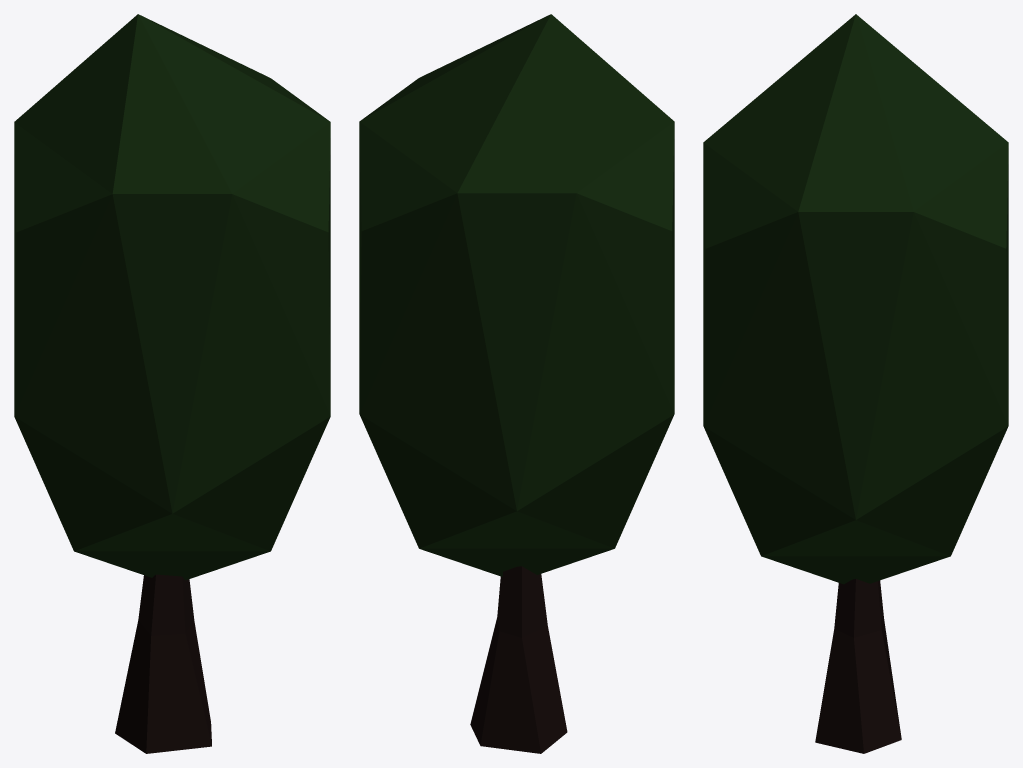
Rendered from Arbre.FBX.
3 renders of one model, left to right at view 1: azimuth 30°, elevation 25°; view 2: azimuth 150°, elevation 25°; view 3: azimuth 270°, elevation 25°, orthographic. The views are drawn at different scales.
Parts seen in each view (by area): view 1: Petit arbre; view 2: Petit arbre; view 3: Petit arbre.
Boxes of the visible parts, x1=… form: Petit arbre: x1=14, y1=14, x2=330, y2=753; Petit arbre: x1=359, y1=14, x2=674, y2=753; Petit arbre: x1=703, y1=14, x2=1008, y2=753.
Bounding box in the file's own units: 109 × 255 × 100.
